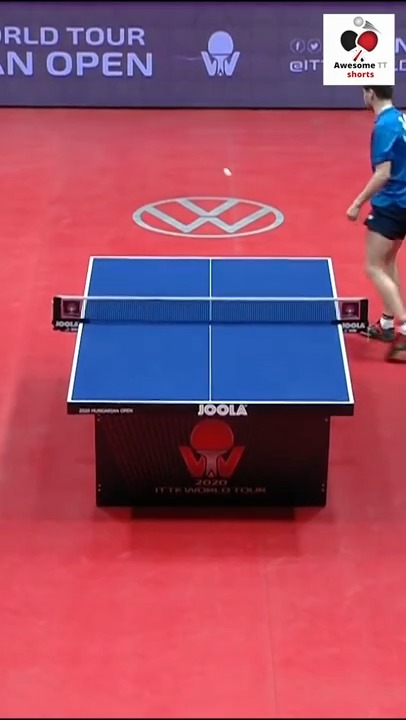Ball: (222, 166, 233, 180)
